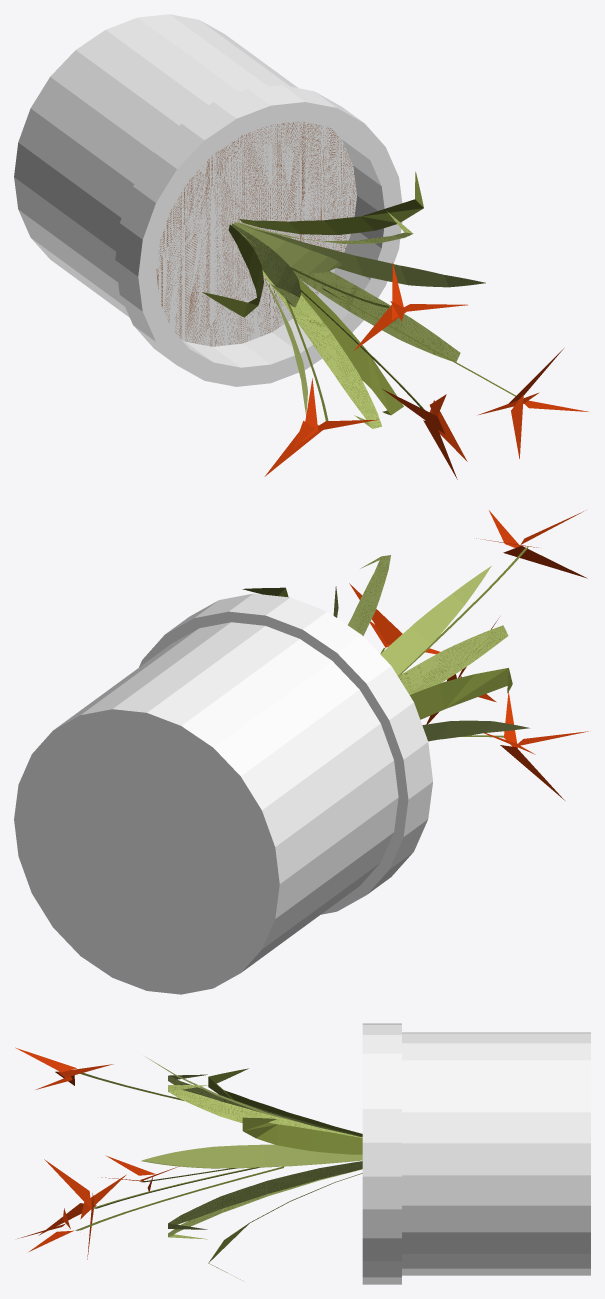
3 renders of one model, top to bottom at view 1: azimuth 30°, elevation 25°; view 2: azimuth 150°, elevation 25°; view 3: azimuth 270°, elevation 25°, orthographic. The views are drawn at different scales.
Parts seen in each view (by area): view 1: plant; view 2: plant; view 3: plant.
Boxes of the visible parts, bbox=[...] form: plant: bbox=[14, 14, 588, 479]; plant: bbox=[14, 510, 588, 994]; plant: bbox=[15, 1023, 590, 1284].
Size of the model in its own units: 1448 by 1432 by 3151.
